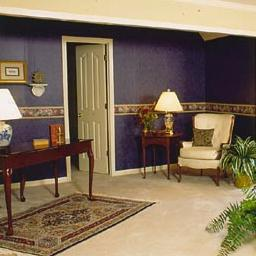Matera: (224, 139, 251, 190)
Puerta: (76, 43, 111, 174)
